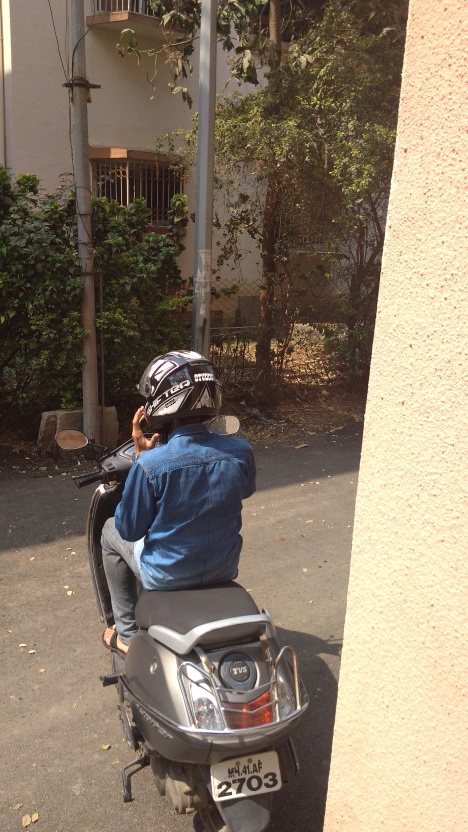helmet: (130, 347, 225, 431)
